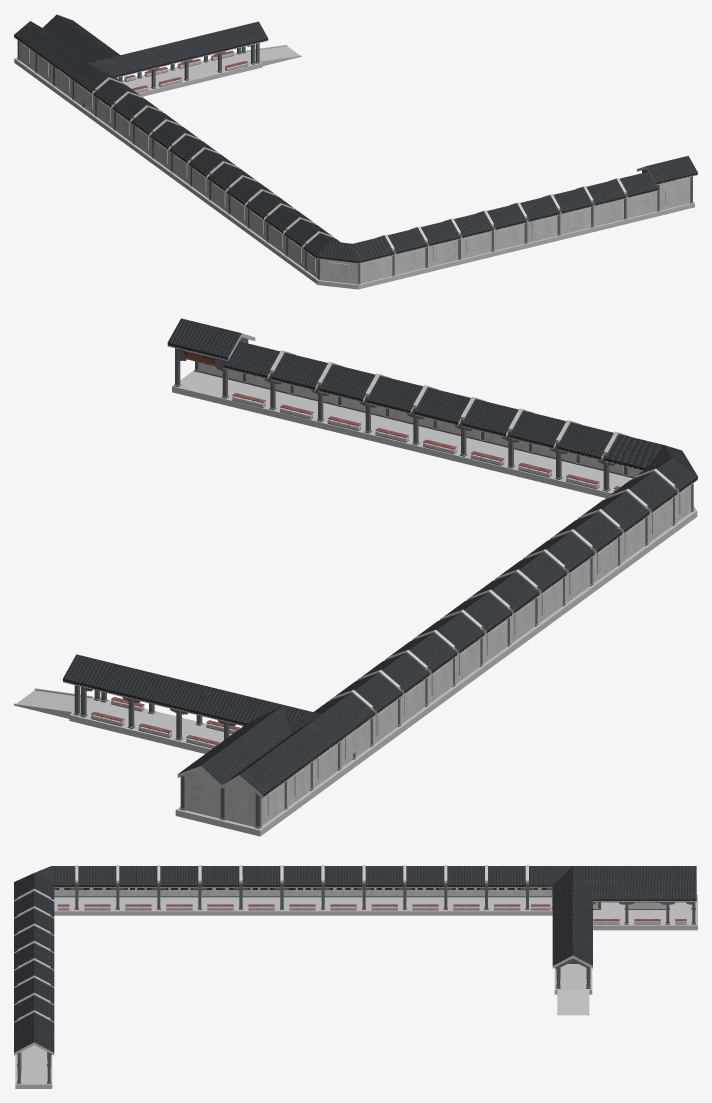
File: Building_ChunyunWork.FBX
3 views of the same model, one above another, from view 1: azimuth 30°, elevation 25°; view 2: azimuth 150°, elevation 25°; view 3: azimuth 270°, elevation 25° (orthographic). The views are drawn at different scales.
Visible parts, largest first — view 1: Building_ChunyunWork; view 2: Building_ChunyunWork; view 3: Building_ChunyunWork.
Part boxes in pixels (x1,y1,x2,y2): Building_ChunyunWork: (14,14,697,289); Building_ChunyunWork: (14,318,697,836); Building_ChunyunWork: (14,865,697,1088).
Size of the model in its own units: 3956 by 463 by 5978.
